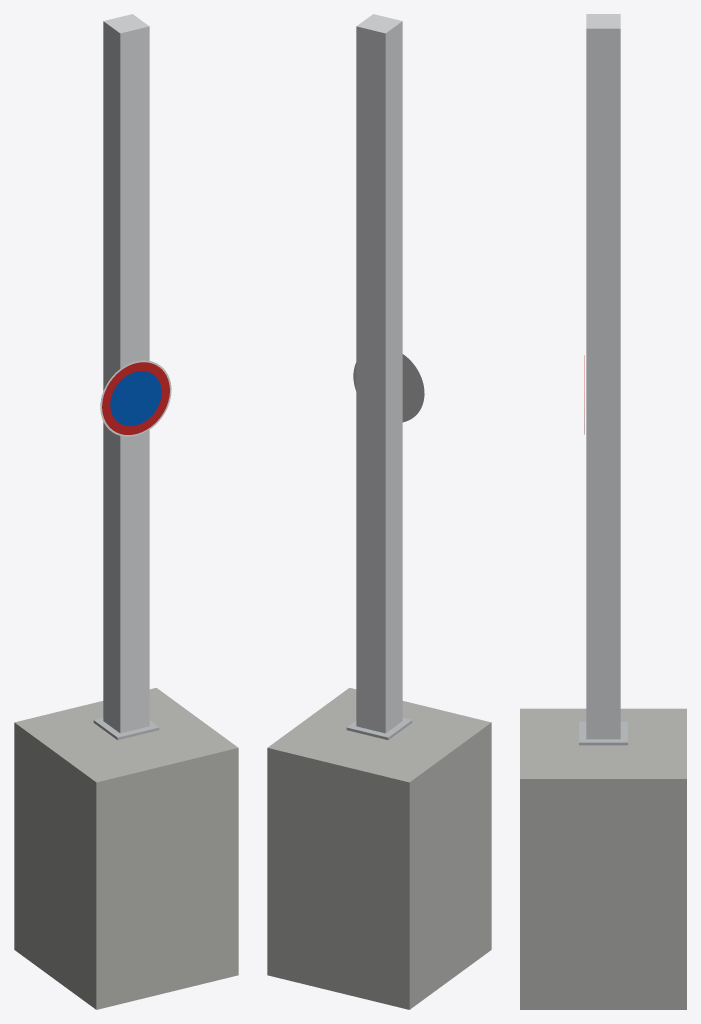
Rendered from hautmat_B6a1.glb.
3 renders of one model, left to right at view 1: azimuth 30°, elevation 25°; view 2: azimuth 150°, elevation 25°; view 3: azimuth 270°, elevation 25°, orthographic.
Parts seen in each view (by area): view 1: hautmat_B6a1_massif, hautmat_B6a1_montant, B6a1_p01, B6a1_p02, hautmat_B6a1_platine; view 2: hautmat_B6a1_massif, hautmat_B6a1_montant, B6a1_dos, hautmat_B6a1_platine; view 3: hautmat_B6a1_massif, hautmat_B6a1_montant, hautmat_B6a1_platine.
Part boxes in pixels (box(x1,y1,x2,y2)): hautmat_B6a1_massif: box(14, 688, 238, 1009); hautmat_B6a1_montant: box(103, 14, 149, 733); B6a1_p01: box(110, 371, 161, 426); B6a1_p02: box(102, 362, 169, 434); hautmat_B6a1_platine: box(93, 717, 159, 740); hautmat_B6a1_massif: box(267, 688, 491, 1009); hautmat_B6a1_montant: box(356, 14, 402, 733); B6a1_dos: box(353, 354, 424, 422); hautmat_B6a1_platine: box(346, 717, 412, 740); hautmat_B6a1_massif: box(520, 708, 686, 1009); hautmat_B6a1_montant: box(586, 14, 620, 739); hautmat_B6a1_platine: box(579, 721, 627, 745).
Bounding box in the file's own units: 1.7 × 10.73 × 1.7.
